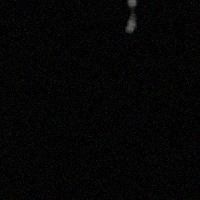chromosome: (125, 0, 138, 33)
